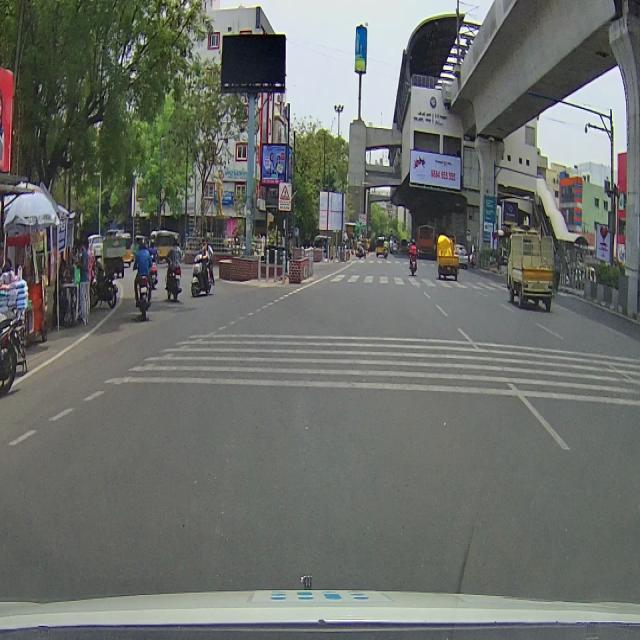motorcycle ahead at: (132, 262, 154, 321), (191, 250, 217, 299), (164, 252, 185, 307)
person ahead at: (76, 241, 95, 317)
